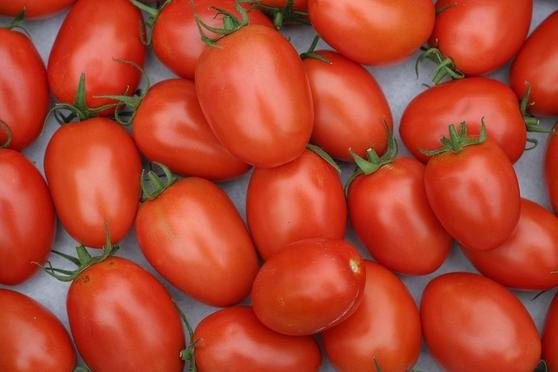tomato: (131, 165, 261, 305), (339, 145, 456, 273), (45, 105, 142, 245), (423, 132, 525, 251)
